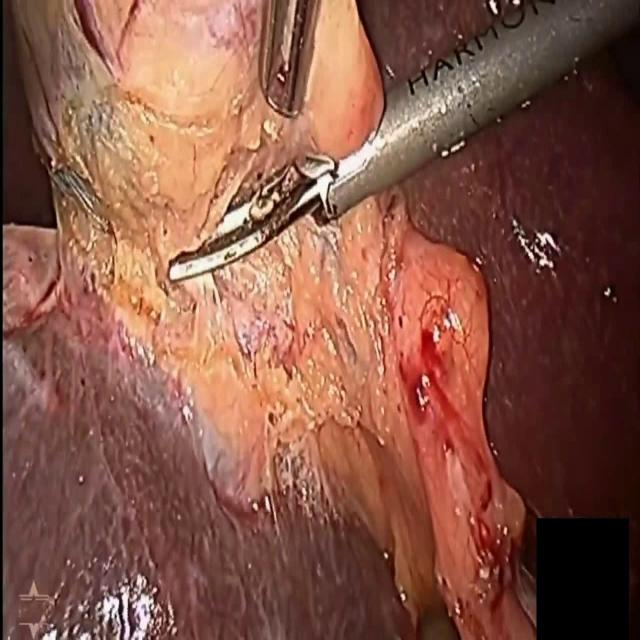surgical-tool: (168, 0, 640, 284), (258, 0, 324, 119)
